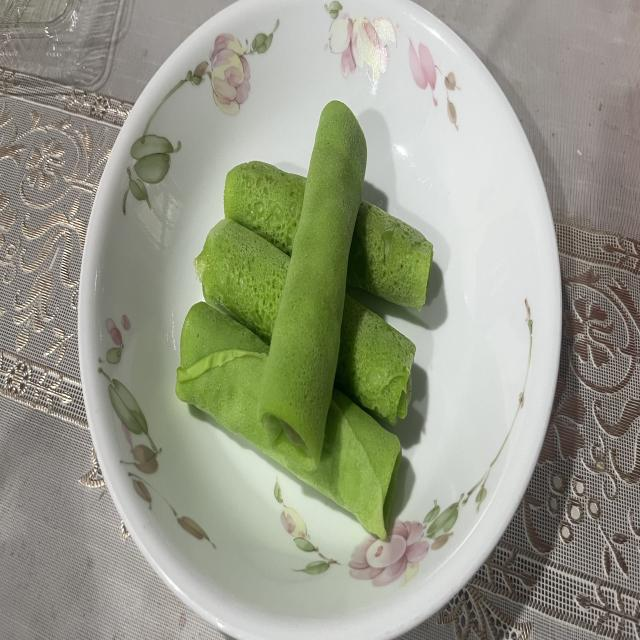Kuih-Ketayap: (175, 302, 401, 540), (258, 100, 368, 467), (195, 218, 290, 342), (335, 296, 415, 424), (346, 202, 434, 309), (224, 160, 306, 253)
